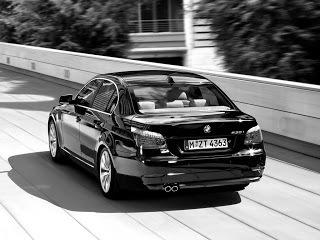car: (48, 70, 274, 200)
